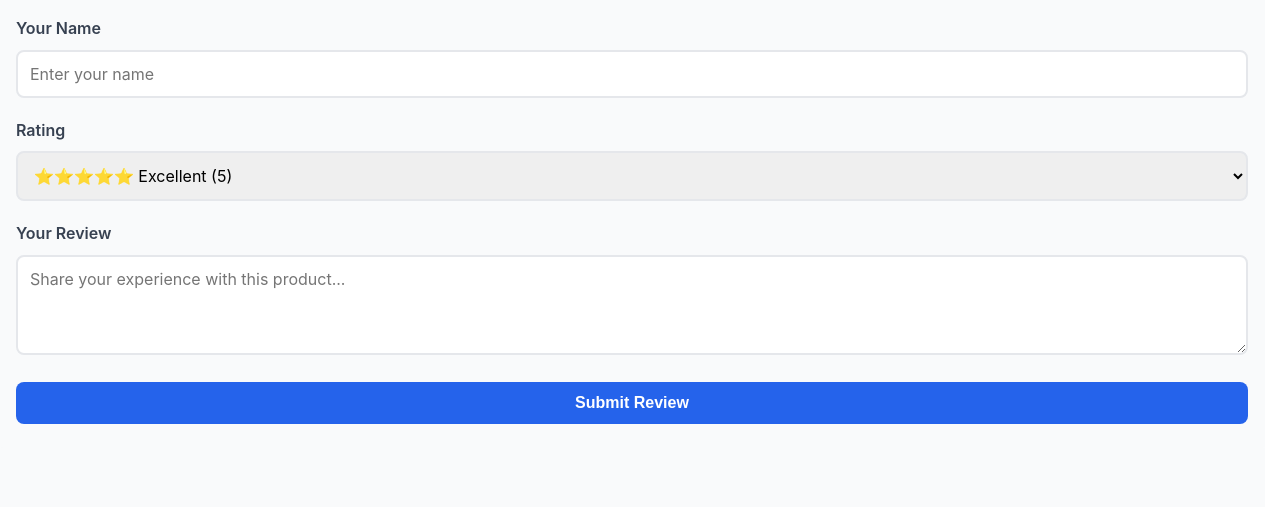
Test case: ReviewForm › shows success message after successful submission
Type "John Doe" into the field labelled "Your Name" at (632, 74), box [16,50,1248,98]
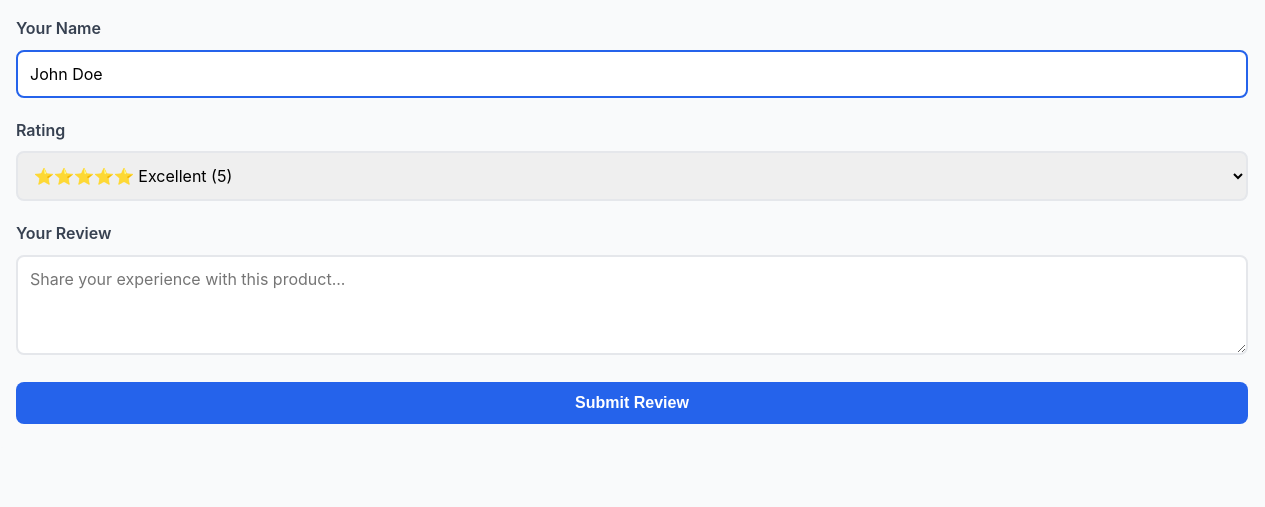
Type "Excellent product!" into the text box labelled "Your Review" at (632, 305), box [16,255,1248,355]
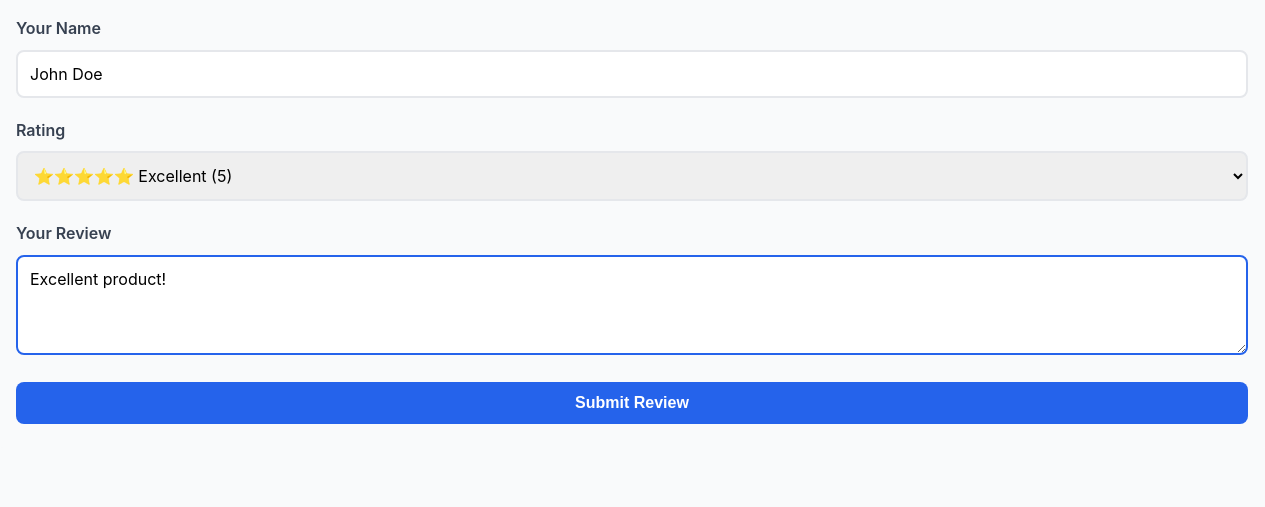
Click the button "Submit Review" at (632, 403), box [16,382,1248,424]
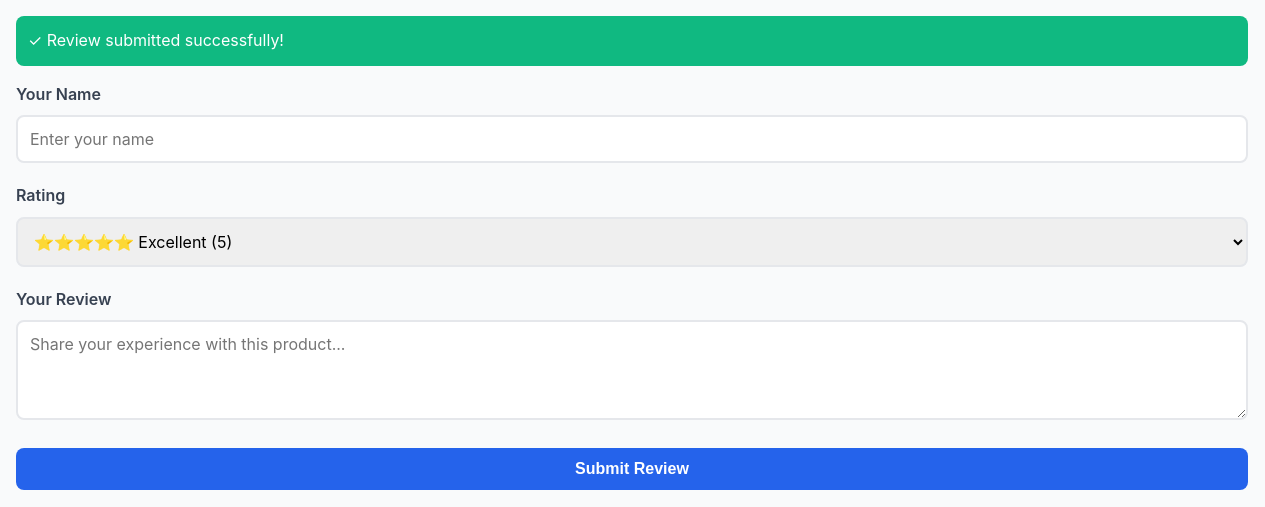
Check: the text "✓ Review submitted successfully!" is shown, box [16,16,1248,66]
